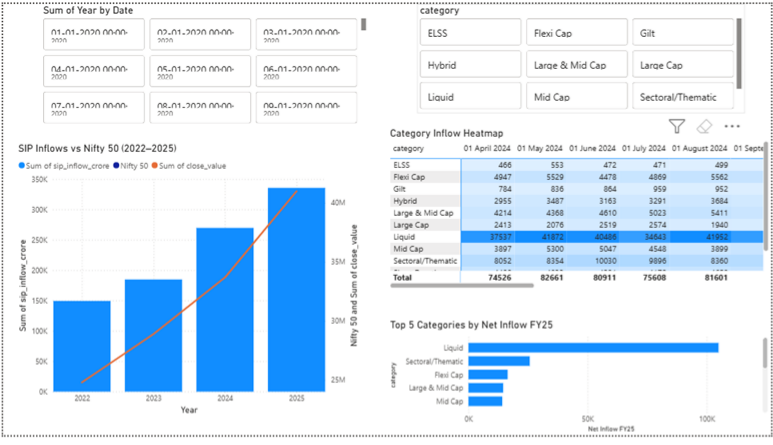

This screenshot's page, from the dashboard's own definition file:
{"tool":"powerbi","page":{"name":"SIP & Market Trends","canvas":[1280,720],"ordinal":3},"visuals":[{"type":"lineClusteredColumnComboChart","title":"SIP Inflows vs Nifty 50 (2022–2025)","fields":{"Y":["Sum(clean_sip_inflows.sip_inflow_crore)"],"Y2":["clean_benchmark_indices.Nifty 50","Sum(clean_benchmark_indices.close_value)"],"Category":["DateTable.Year"]},"box":[20.6,230.5,577.7,461.1],"z":0},{"type":"pivotTable","title":"Category Inflow Heatmap","fields":{"Rows":["clean_category_inflows.category"],"Columns":["clean_category_inflows.month"],"Values":["Sum(clean_category_inflows.net_inflow_crore)"]},"box":[639.5,205.8,640.8,274.4],"z":1000},{"type":"clusteredBarChart","title":"Top 5 Categories by Net Inflow FY25","fields":{"Category":["clean_category_inflows.category"],"Y":["clean_category_inflows.Net Inflow FY25"]},"box":[639.5,524.2,639.5,196.2],"z":2000},{"type":"advancedSlicerVisual","fields":{"Values":["clean_category_inflows.category"]},"box":[690.2,0,546.1,182.5],"z":3000},{"type":"advancedSlicerVisual","fields":{"Values":["DateTable.Date"],"Label":["Sum(DateTable.Year)"]},"box":[61.7,0,548.9,205.8],"z":4000}]}

Visuals, with their boxes in screenshot pixels (x1, y1, x2, y2), scaled from the page's 1280x720 canvas onto the 773x445 screenshot:
"SIP Inflows vs Nifty 50 (2022–2025)" lineClusteredColumnComboChart: {"x1": 12, "y1": 142, "x2": 361, "y2": 427}
"Category Inflow Heatmap" pivotTable: {"x1": 386, "y1": 127, "x2": 772, "y2": 297}
"Top 5 Categories by Net Inflow FY25" clusteredBarChart: {"x1": 386, "y1": 324, "x2": 772, "y2": 444}
advancedSlicerVisual - clean_category_inflows.category: {"x1": 417, "y1": 0, "x2": 747, "y2": 113}
advancedSlicerVisual - DateTable.Date x Sum(DateTable.Year): {"x1": 37, "y1": 0, "x2": 369, "y2": 127}
